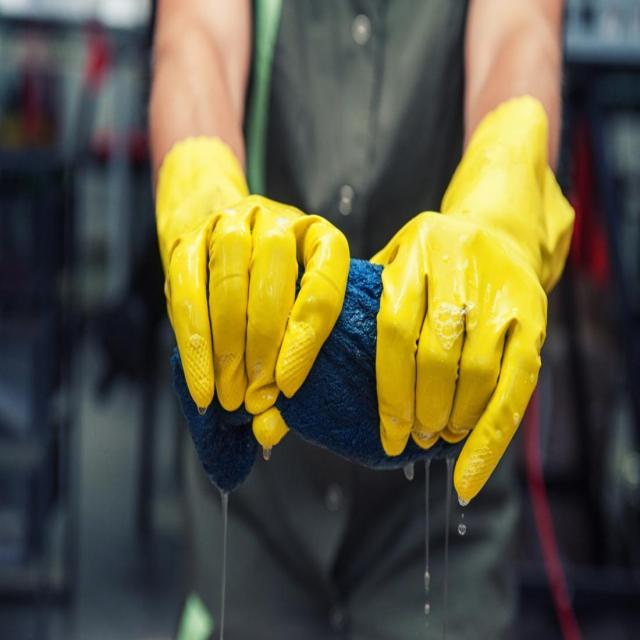gloves: (358, 94, 574, 509), (156, 131, 354, 414)
